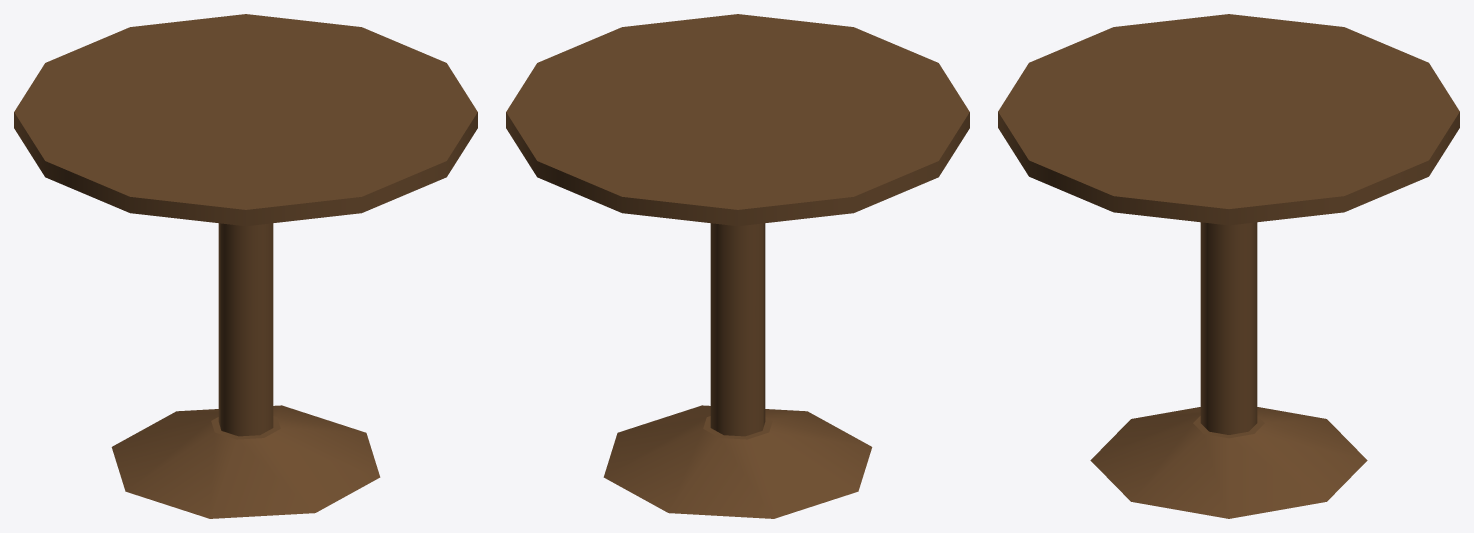
File: parametric-round_table-1st-pub.glb
3 views of the same model, side by side, from view 1: azimuth 30°, elevation 25°; view 2: azimuth 150°, elevation 25°; view 3: azimuth 270°, elevation 25° (orthographic).
Parts seen in each view (by area): view 1: parametric-round_table-1st-pub; view 2: parametric-round_table-1st-pub; view 3: parametric-round_table-1st-pub.
Boxes of the visible parts, box(x1,y1,x2,y2) form: parametric-round_table-1st-pub: box(14, 14, 477, 518); parametric-round_table-1st-pub: box(506, 14, 969, 518); parametric-round_table-1st-pub: box(998, 14, 1459, 518).
Size of the model in its own units: 0.9 by 0.75 by 0.9.
